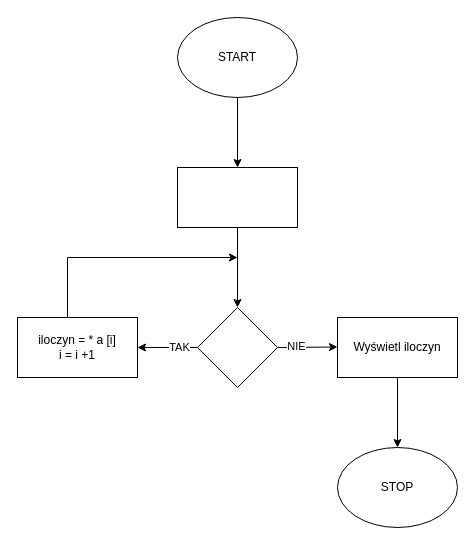
Some shapes in this 475 by 545 pixel diagram are drawn without their labels. Each missing label, with the centre of its shape:
"i < a. dł" goes at [237,347].
"Iloczyn = 0 i = 0" goes at [237,197].
